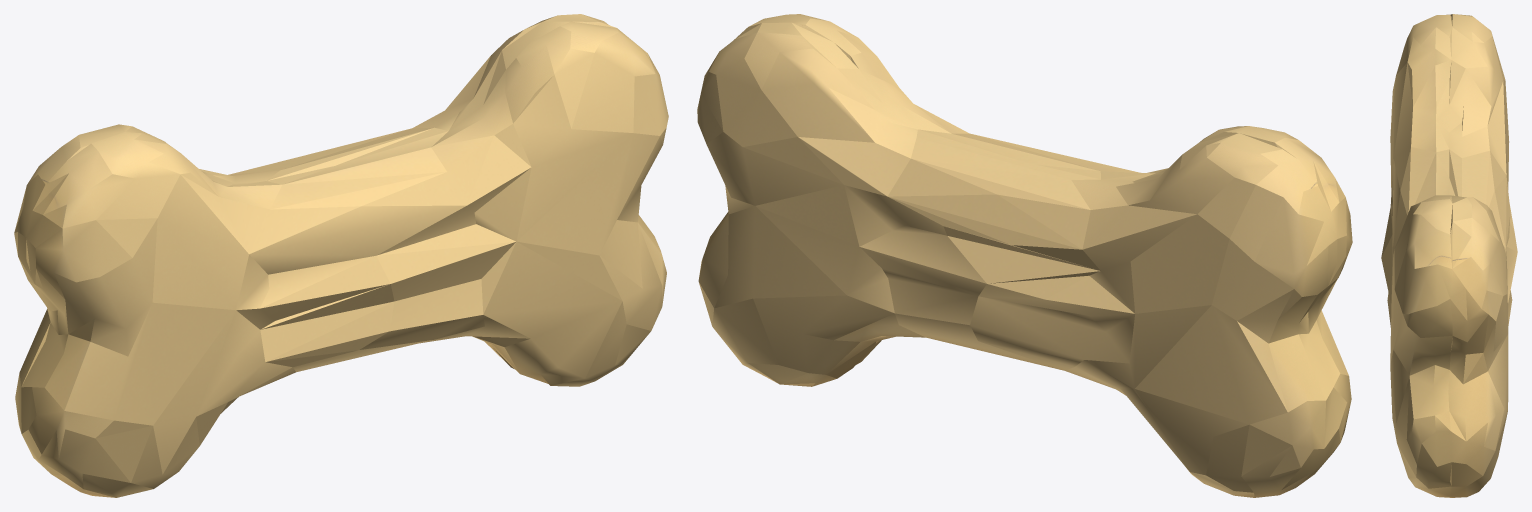
The model's file is dog_bone.glb.
The picture shows the model from 3 angles, left to right: view 1: azimuth 30°, elevation 25°; view 2: azimuth 150°, elevation 25°; view 3: azimuth 270°, elevation 25°; orthographic projection. The views are drawn at different scales.
Bounding box in the file's own units: 1.9 × 1.02 × 0.4388.
1 material, 1 textured.
